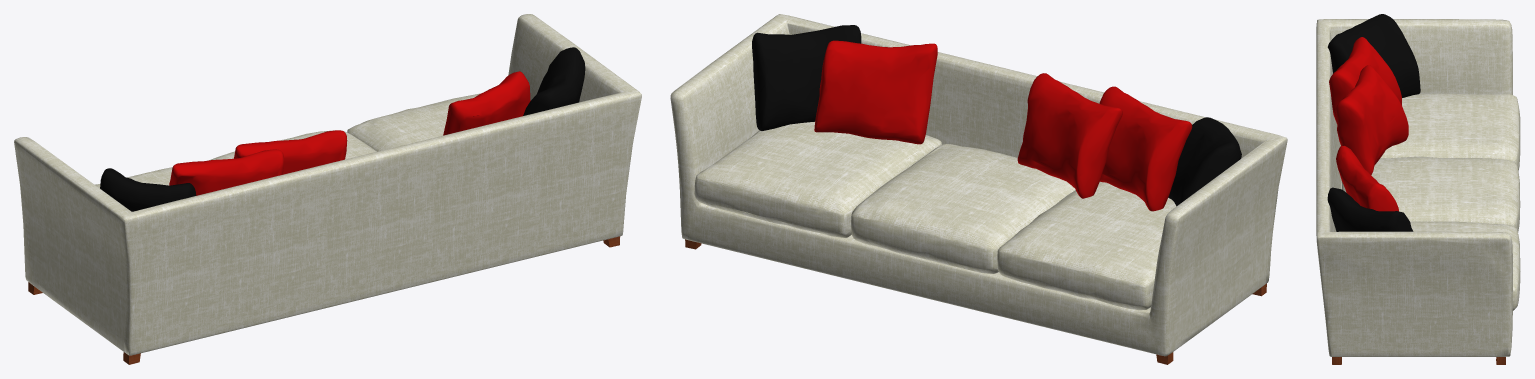
The model's file is Couch.FBX.
The picture shows the model from 3 angles, left to right: view 1: azimuth 30°, elevation 25°; view 2: azimuth 150°, elevation 25°; view 3: azimuth 270°, elevation 25°; orthographic projection. The views are drawn at different scales.
Parts seen in each view (by area): view 1: couch, Pilow4, Pilow2, Pilow3, Pilow1, Pilow5; view 2: couch, Pilow2, Pilow3, Pilow1, Pilow4, Pilow5; view 3: couch, Pilow3, Pilow5, Pilow1, Pilow4, Pilow2.
Boxes of the visible parts, x1,y1,x2,y2 form: couch: [14, 14, 641, 364]; Pilow4: [169, 149, 283, 195]; Pilow2: [443, 71, 530, 135]; Pilow3: [234, 130, 347, 174]; Pilow1: [523, 47, 585, 115]; Pilow5: [100, 168, 196, 211]; couch: [670, 14, 1287, 364]; Pilow2: [814, 40, 937, 144]; Pilow3: [1017, 73, 1122, 198]; Pilow1: [752, 25, 861, 130]; Pilow4: [1099, 86, 1192, 211]; Pilow5: [1168, 117, 1241, 206]; couch: [1316, 19, 1520, 364]; Pilow3: [1335, 65, 1408, 174]; Pilow5: [1327, 14, 1420, 97]; Pilow1: [1327, 187, 1413, 231]; Pilow4: [1329, 37, 1401, 124]; Pilow2: [1336, 145, 1398, 211].
Bounding box in the file's own units: 2913 × 1150 × 948.
4 materials, 2 textured.
